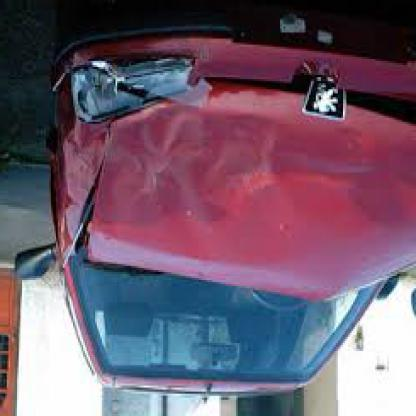dent: (64, 134, 116, 262), (141, 147, 188, 212)
